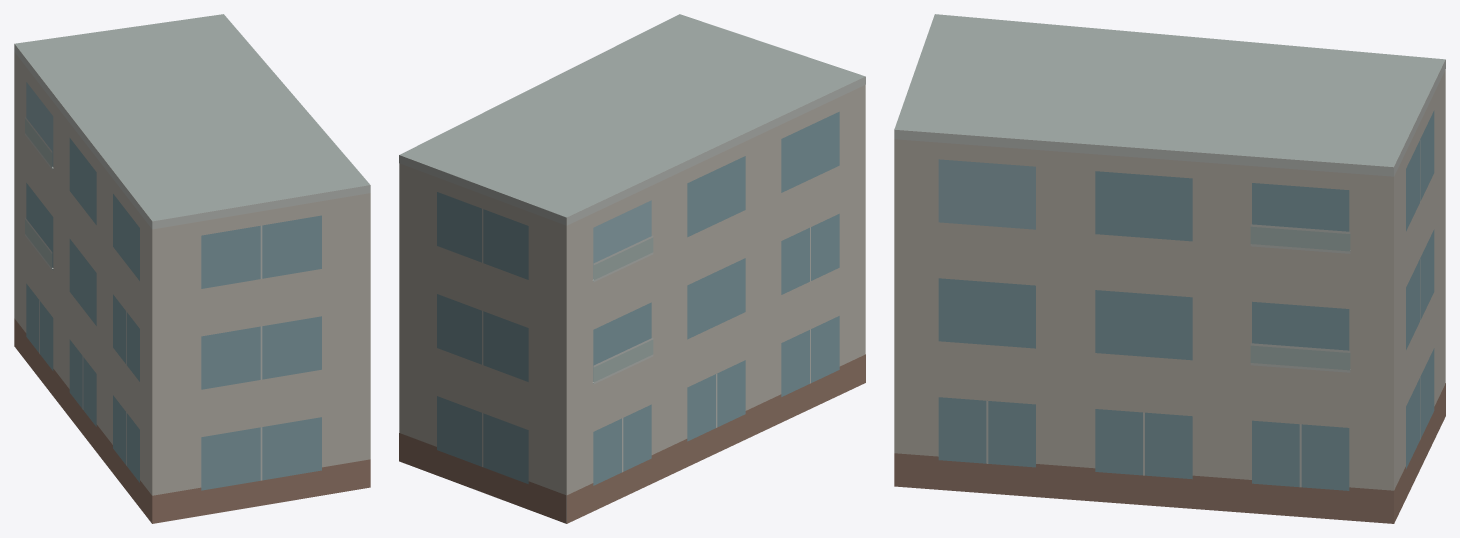
Rendered from survey-upis-32702648.glb.
3 renders of one model, left to right at view 1: azimuth 30°, elevation 25°; view 2: azimuth 150°, elevation 25°; view 3: azimuth 270°, elevation 25°, orthographic. The views are drawn at different scales.
Parts seen in each view (by area): view 1: survey-upis-32702648.tmp; view 2: survey-upis-32702648.tmp; view 3: survey-upis-32702648.tmp.
Part boxes in pixels (x1,y1,x2,y2): survey-upis-32702648.tmp: (14,14,370,523); survey-upis-32702648.tmp: (399,14,865,523); survey-upis-32702648.tmp: (894,14,1445,523).
Bounding box in the file's own units: 8.44 × 9.15 × 12.83.
